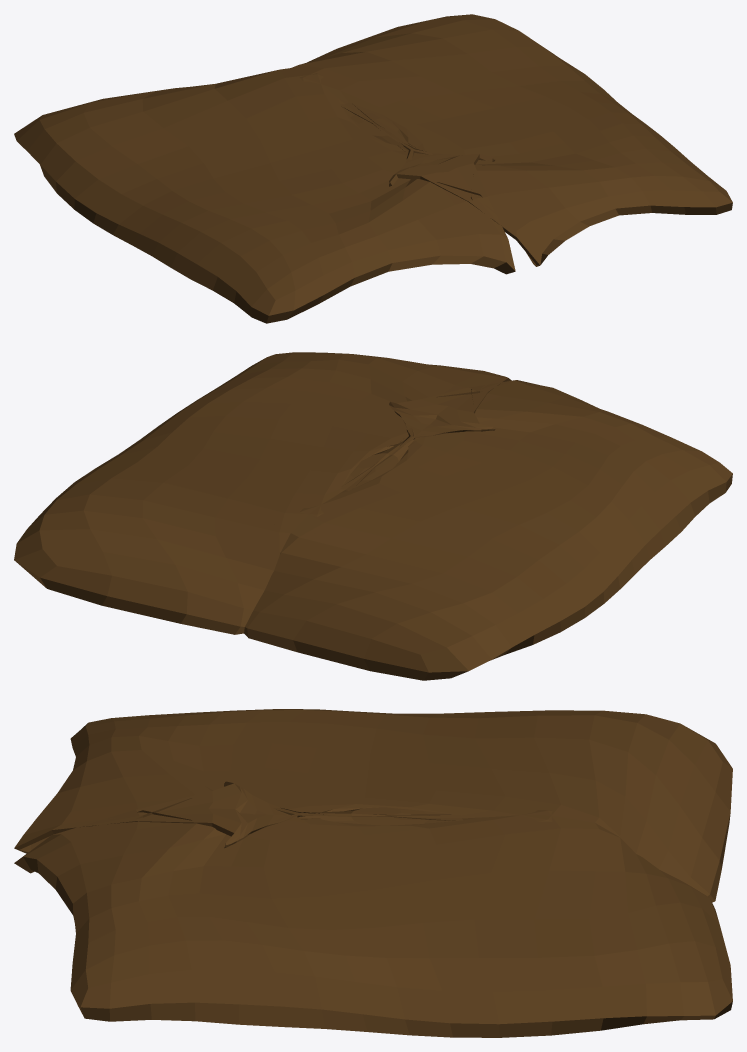
Rendered from Ground_Tile_Five.fbx.
3 views of the same model, one above another, from view 1: azimuth 30°, elevation 25°; view 2: azimuth 150°, elevation 25°; view 3: azimuth 270°, elevation 25° (orthographic). The views are drawn at different scales.
Parts seen in each view (by area): view 1: Cube.001; view 2: Cube.001; view 3: Cube.001.
Part boxes in pixels (<box>): Cube.001: <box>14,14,732,323</box>; Cube.001: <box>14,352,732,680</box>; Cube.001: <box>14,709,732,1037</box>.
Size of the model in its own units: 2780 by 418 by 2767.
